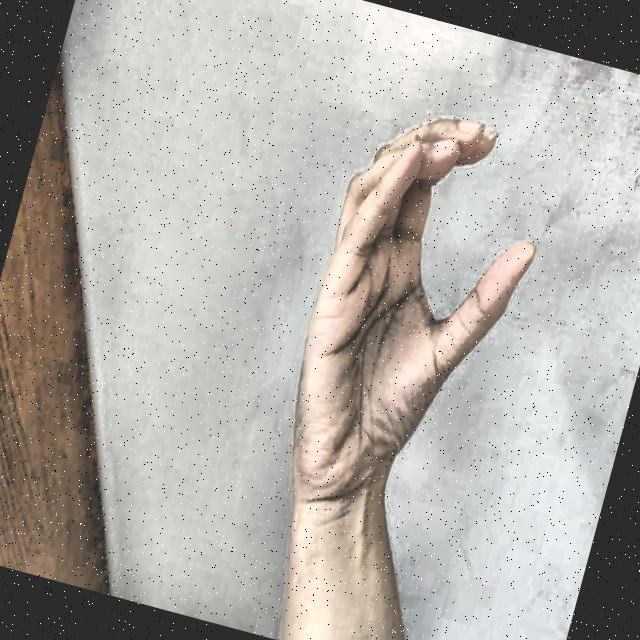A: (235, 58, 595, 561)
